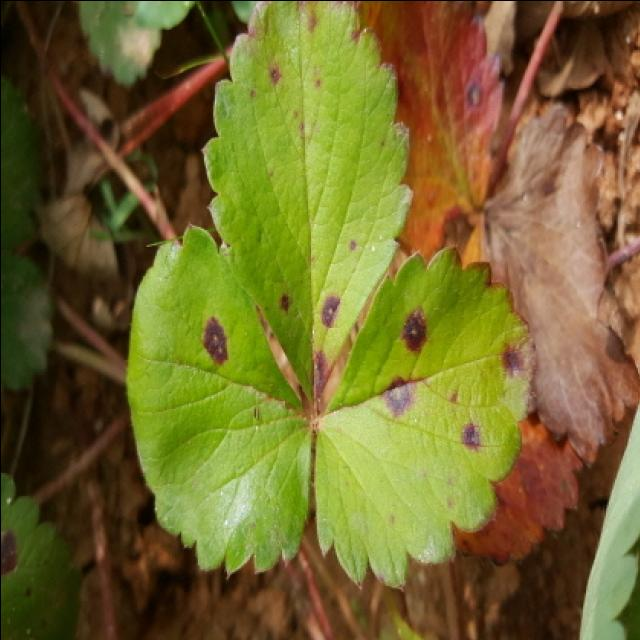Leaf Spot: (201, 2, 415, 409), (314, 242, 536, 592), (125, 222, 314, 581), (358, 2, 506, 281), (0, 472, 83, 640)
